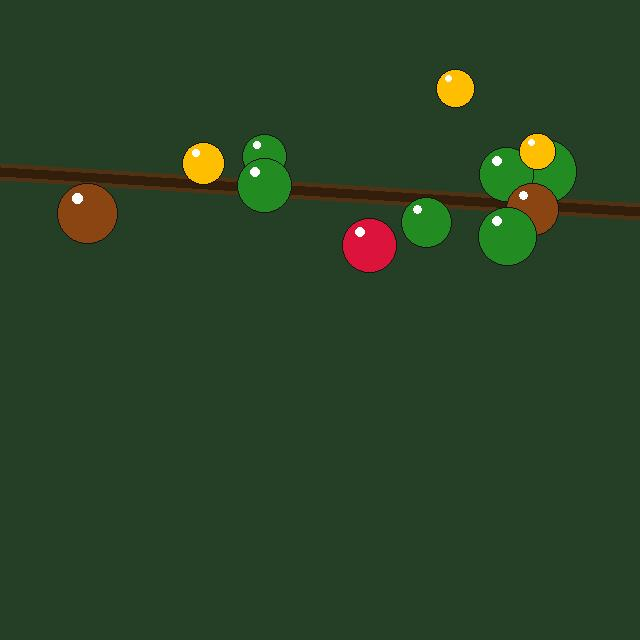Overripe: (57, 183, 117, 243), (506, 183, 558, 235)
Ripe: (342, 218, 396, 272)
Ripening: (182, 142, 224, 184), (436, 69, 474, 107), (519, 133, 555, 169)
Unripe: (512, 139, 576, 203), (478, 207, 536, 265), (479, 147, 533, 201), (237, 158, 291, 212), (401, 197, 451, 247), (242, 134, 286, 178)
